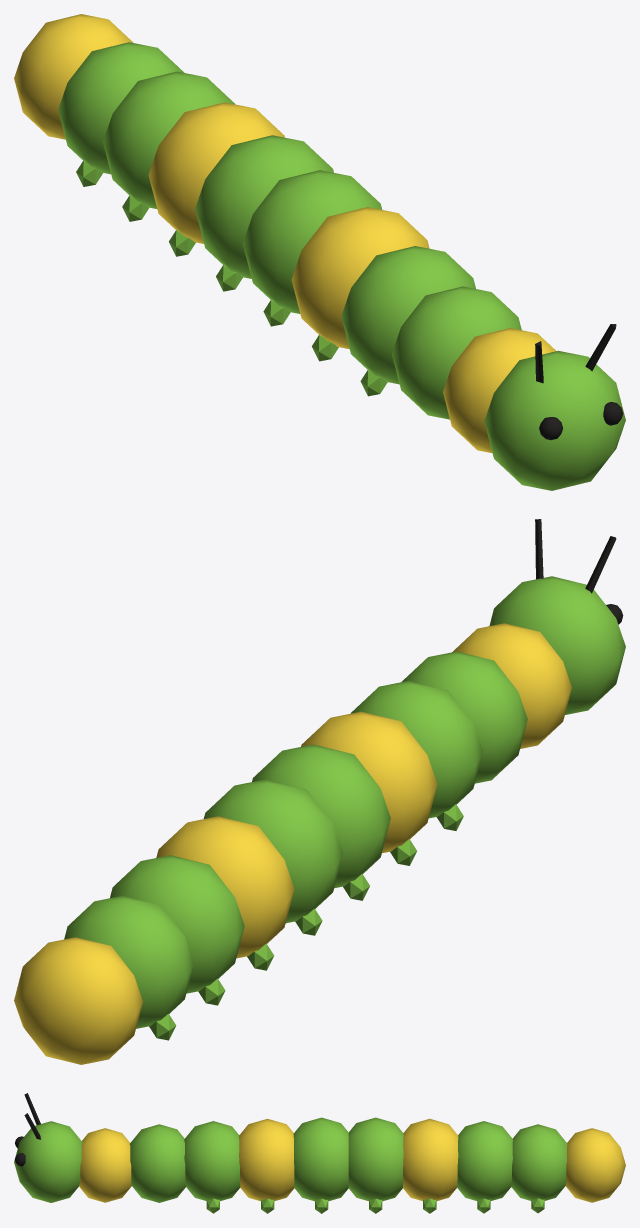
File: caterpillar.glb
3 renders of one model, top to bottom at view 1: azimuth 30°, elevation 25°; view 2: azimuth 150°, elevation 25°; view 3: azimuth 270°, elevation 25°, orthographic. The views are drawn at different scales.
Parts seen in each view (by area): view 1: caterpillar; view 2: caterpillar; view 3: caterpillar.
Part boxes in pixels (bbox=[...]): caterpillar: bbox=[14, 14, 625, 490]; caterpillar: bbox=[14, 519, 625, 1064]; caterpillar: bbox=[14, 1093, 625, 1213].
Bounding box in the file's own units: 0.8784 × 1.1 × 6.22.
